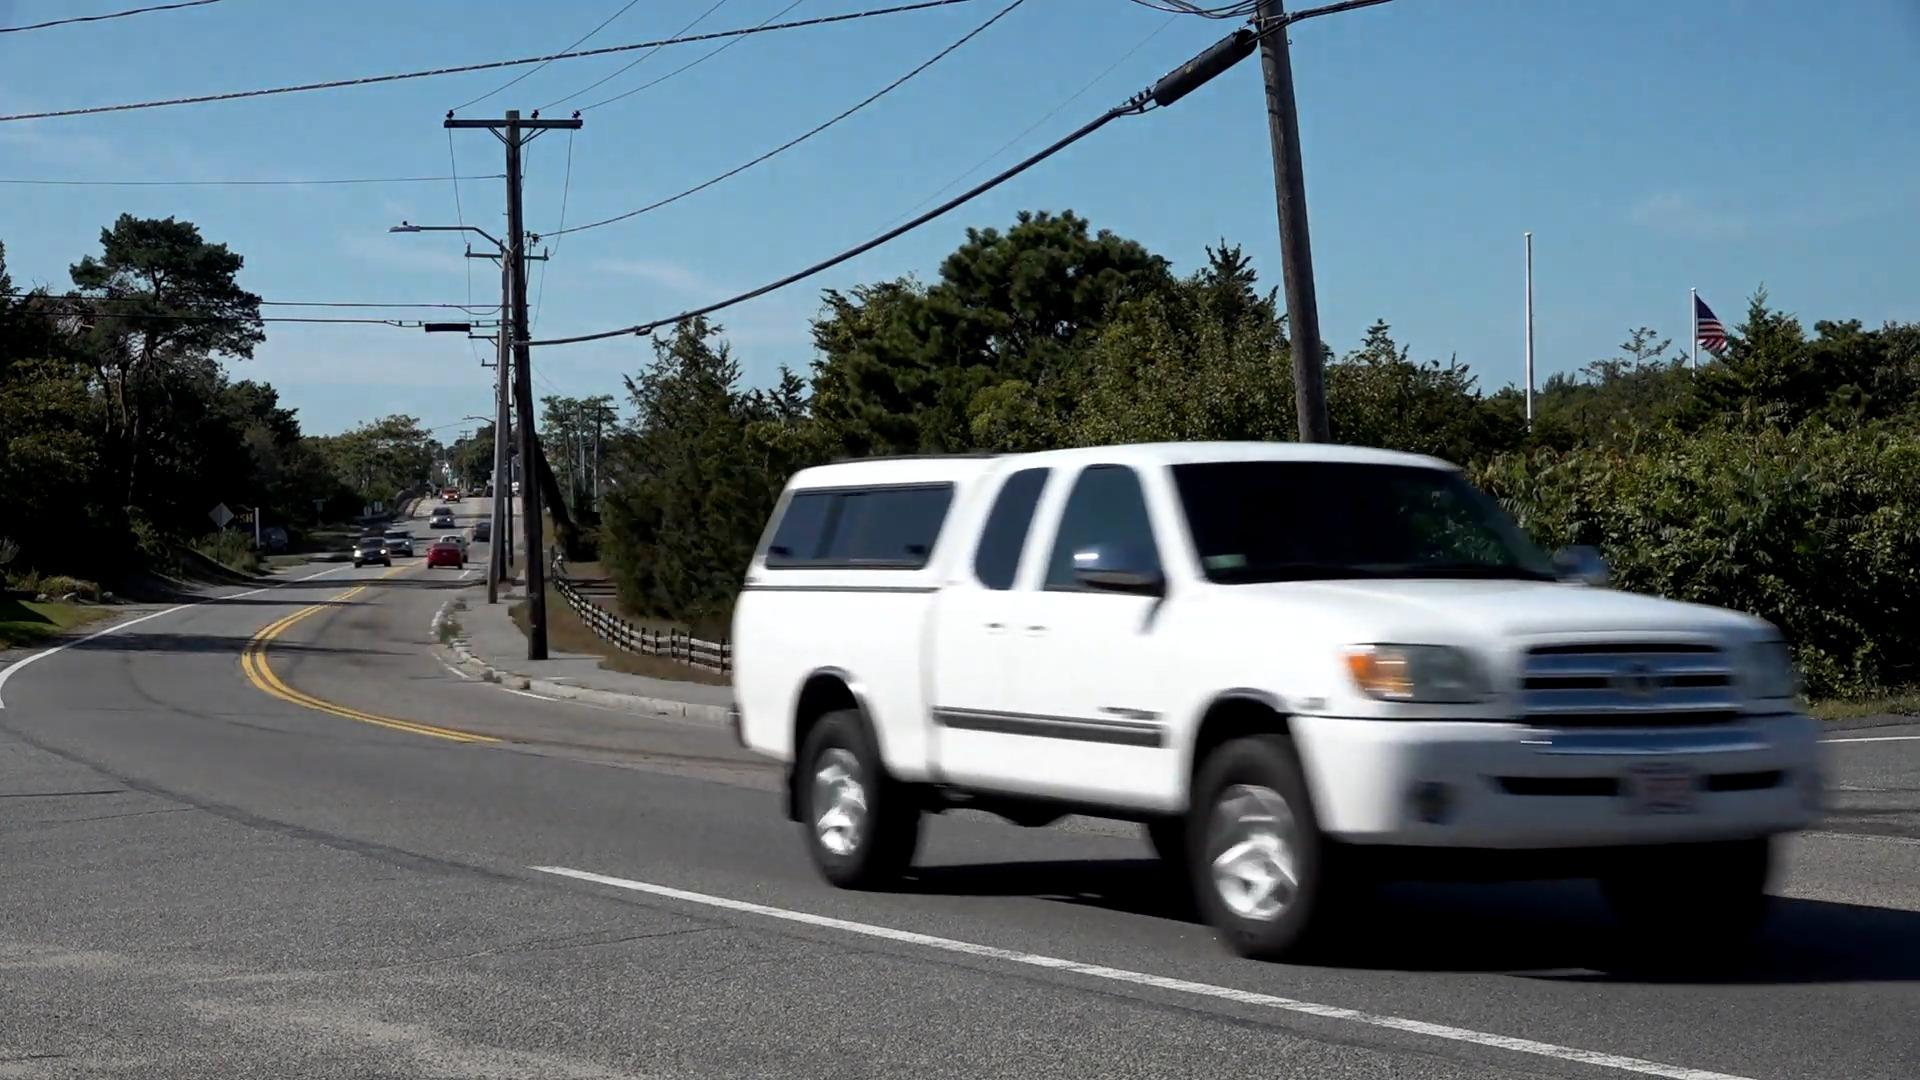pickup: (738, 431, 1828, 965)
